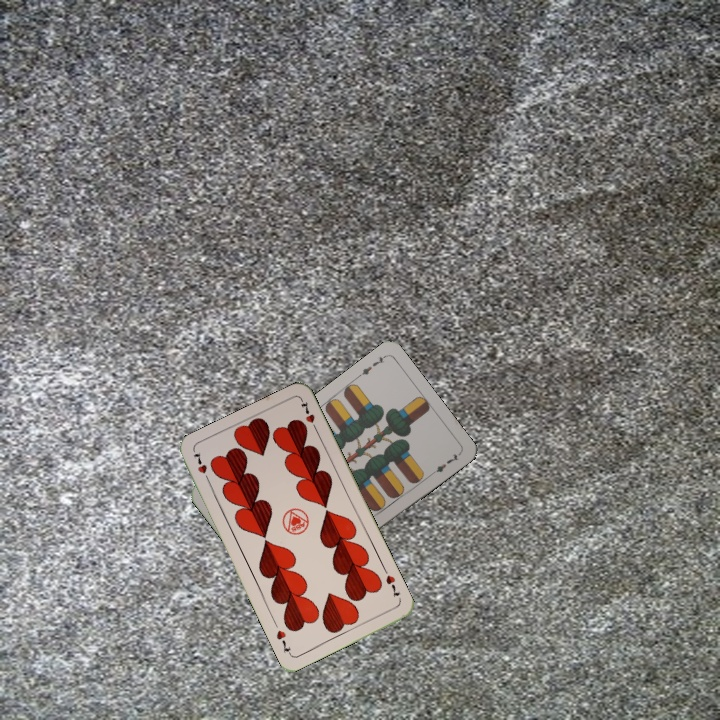E7: (353, 352, 388, 380)
H7: (189, 448, 213, 486), (380, 565, 403, 600)
